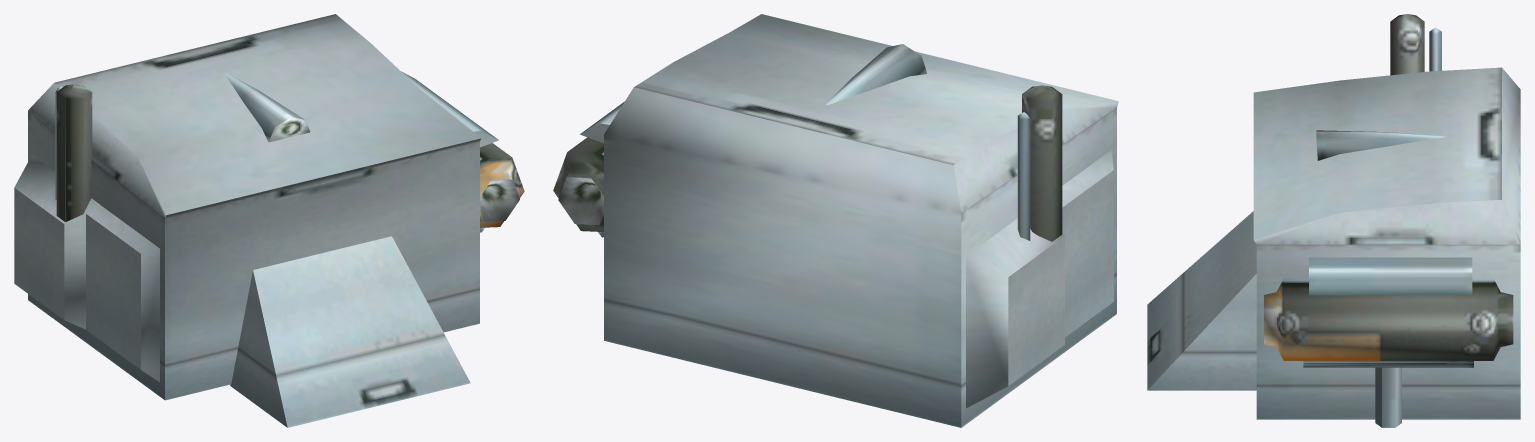
Rendered from eqp_app_substance_analyzer_l0.fbx.
The picture shows the model from 3 angles, left to right: view 1: azimuth 30°, elevation 25°; view 2: azimuth 150°, elevation 25°; view 3: azimuth 270°, elevation 25°; orthographic projection. The views are drawn at different scales.
Visible parts, largest first — view 1: mesh_node; view 2: mesh_node; view 3: mesh_node.
Boxes of the visible parts, x1,y1,x2,y2 form: mesh_node: (14,14,524,427); mesh_node: (553,14,1118,427); mesh_node: (1147,14,1520,427).
Size of the model in its own units: 0.2571 by 0.1616 by 0.2153.
1 material, 1 textured.
